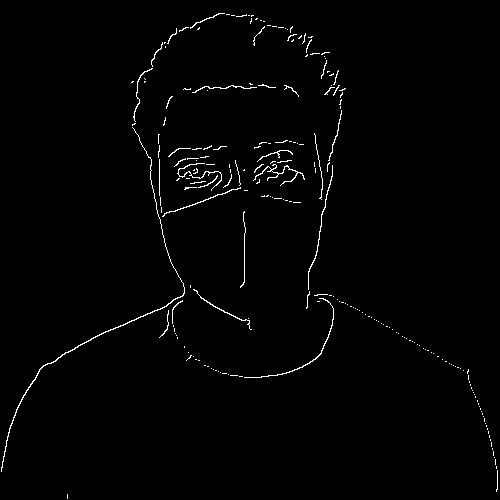mask: (157, 185, 338, 324)
